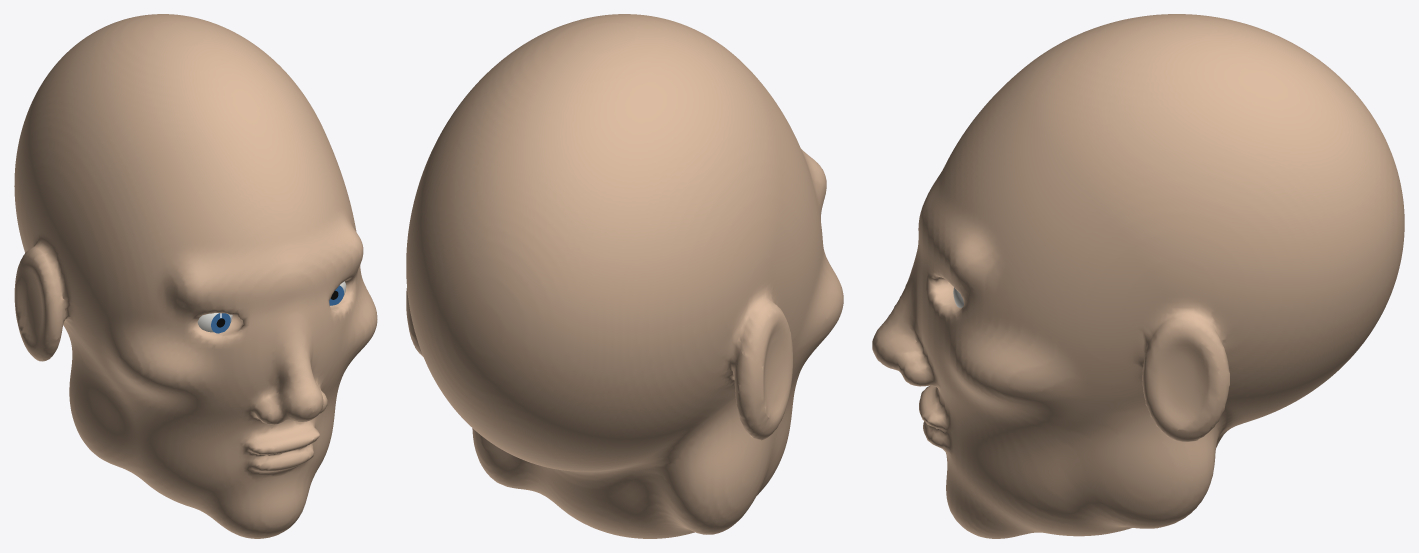
The model's file is provisorio.glb.
3 renders of one model, left to right at view 1: azimuth 30°, elevation 25°; view 2: azimuth 150°, elevation 25°; view 3: azimuth 270°, elevation 25°, orthographic. The views are drawn at different scales.
Visible parts, largest first — view 1: cabeza, ojo_der; view 2: cabeza; view 3: cabeza.
Part boxes in pixels (x1,y1,x2,y2): cabeza: [14, 14, 377, 538]; ojo_der: [197, 313, 232, 333]; cabeza: [406, 14, 843, 538]; cabeza: [872, 14, 1404, 538].
Size of the model in its own units: 0.1665 by 0.2399 by 0.2288.
